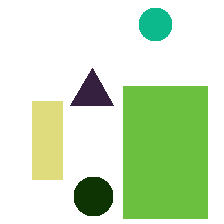circle: (74, 177, 112, 215), (139, 8, 171, 40)
rectangle: (123, 86, 207, 218), (32, 101, 62, 179)
triangle: (70, 68, 113, 105)
